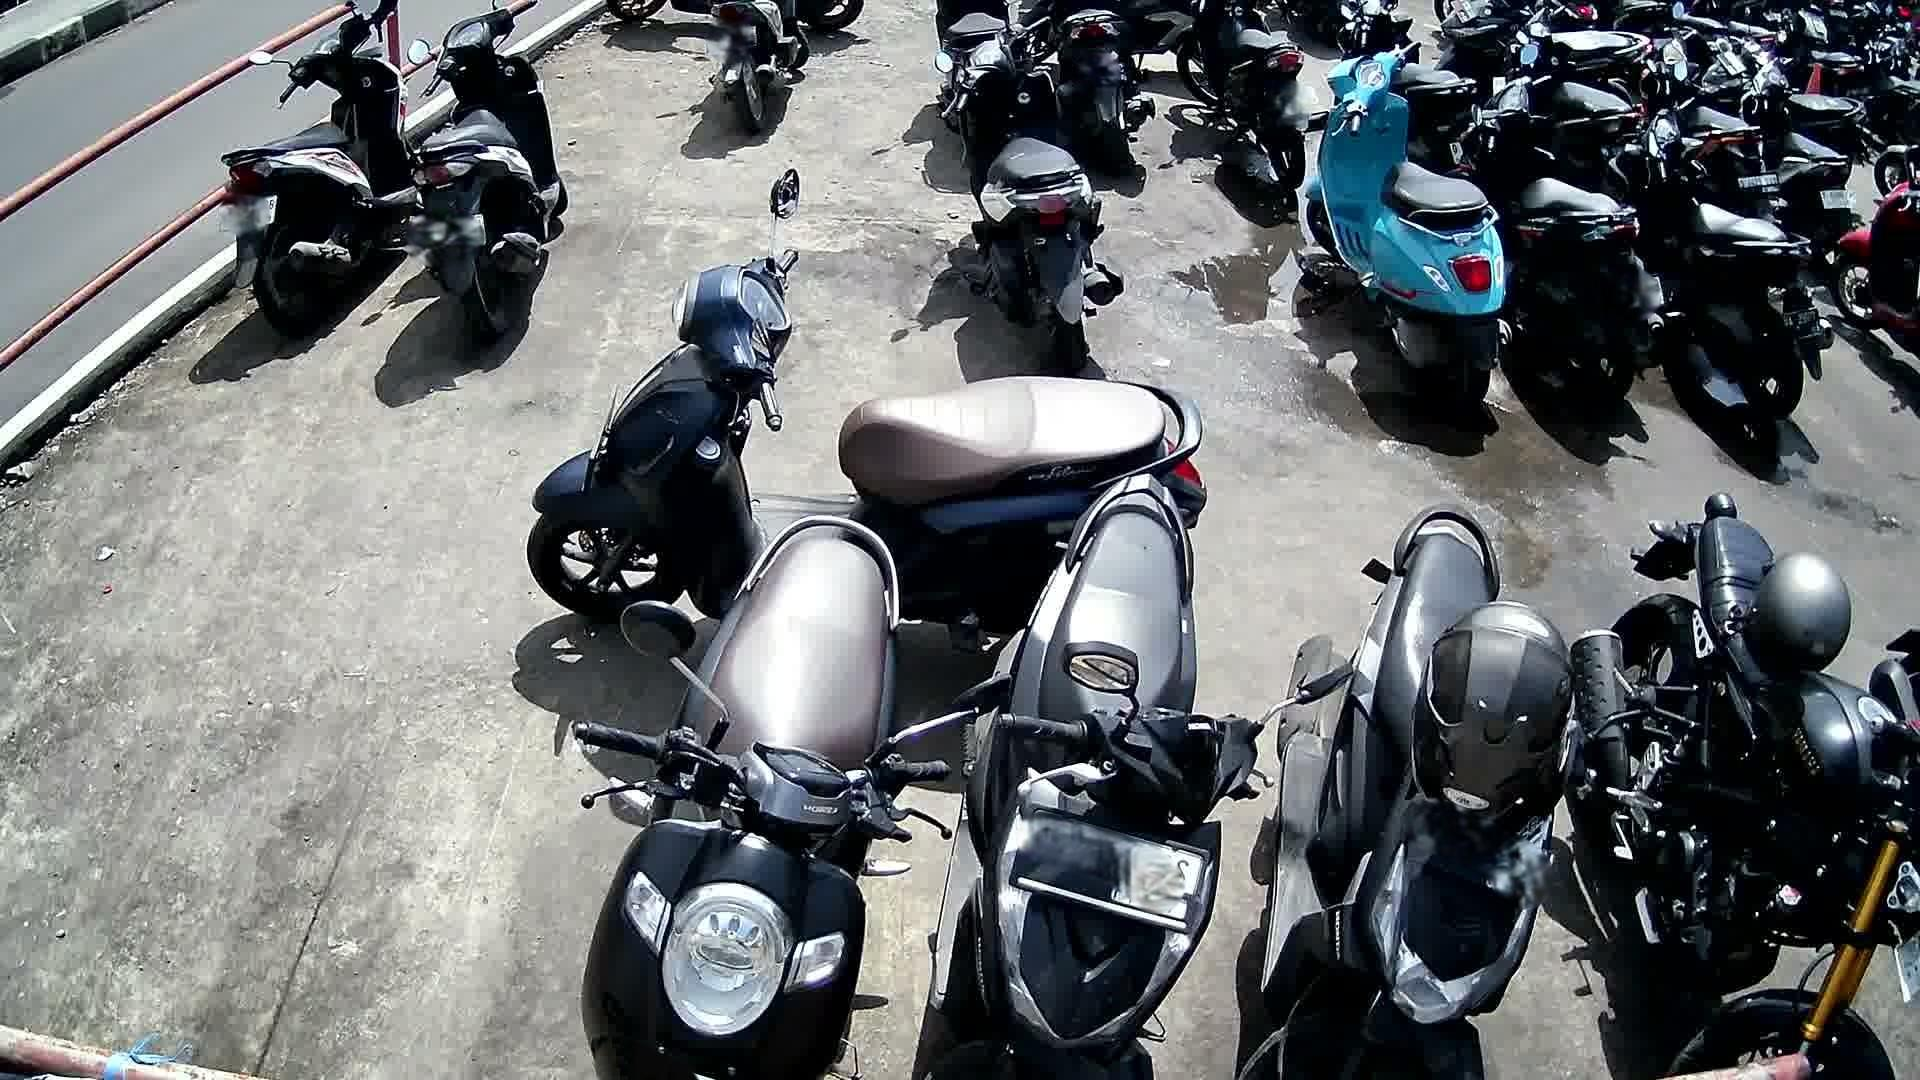motorcycle: (522, 164, 1213, 629), (574, 513, 1010, 1080), (931, 472, 1303, 1080), (1573, 491, 1920, 1079), (1241, 502, 1572, 1080), (1444, 40, 1665, 426), (1303, 36, 1516, 435), (1596, 95, 1836, 426), (932, 16, 1127, 376), (220, 0, 414, 334), (404, 0, 568, 351)
